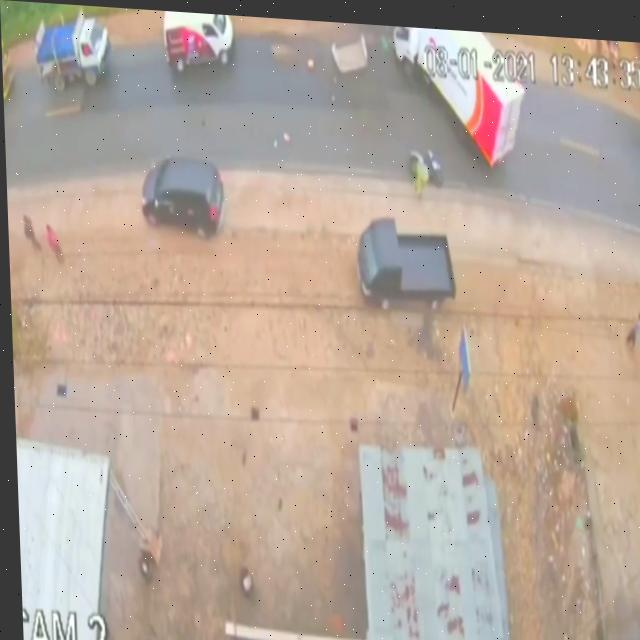multiple_accident: (318, 21, 532, 186)
normal: (302, 213, 497, 329), (26, 11, 246, 86), (99, 139, 235, 249)
